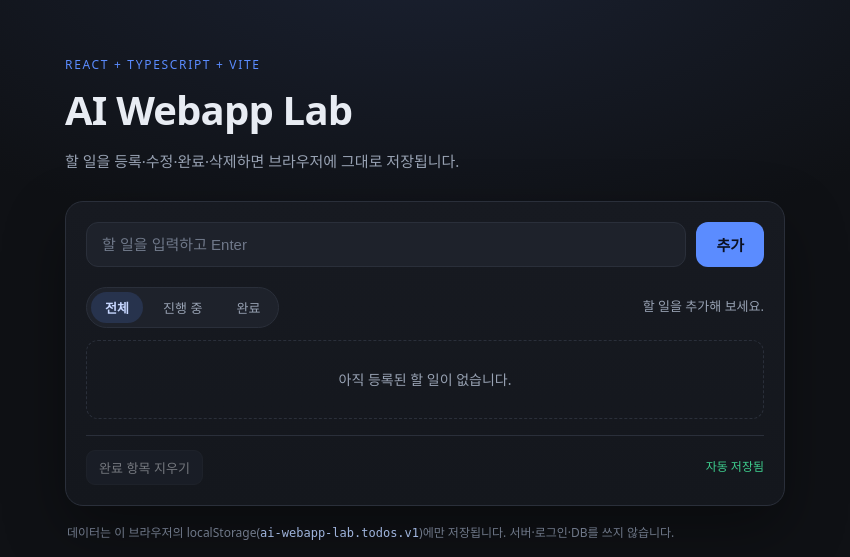
Test: AI Webapp Lab — 할 일 관리 › 할 일을 등록하면 목록과 localStorage에 저장된다
The width and height of the screenshot is (850, 557).
Check: the text with test id "todo-empty" reads "아직 등록된 할 일이 없습니다.", box [339,370,512,388]
Type "우유 사기" into the field with test id "todo-input" at (386, 244), box [86,222,686,266]
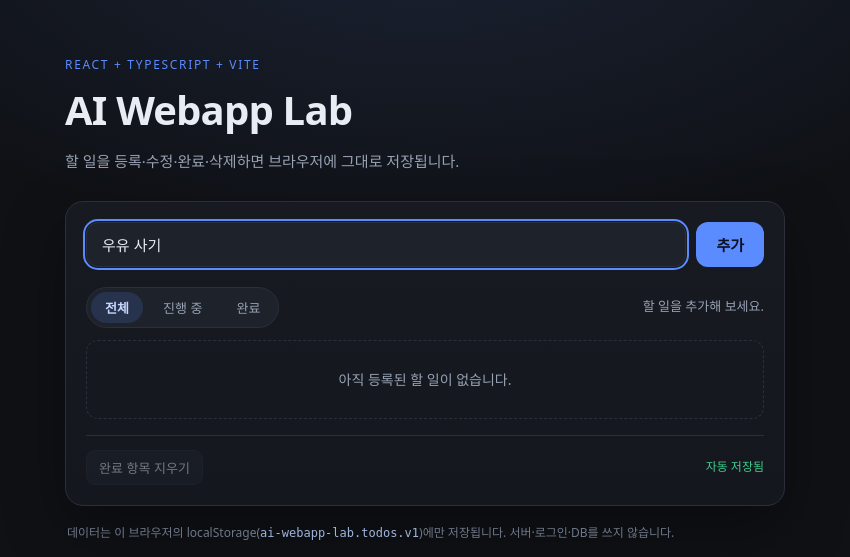
Click the button with test id "todo-add" at (730, 244), box [696,222,764,266]
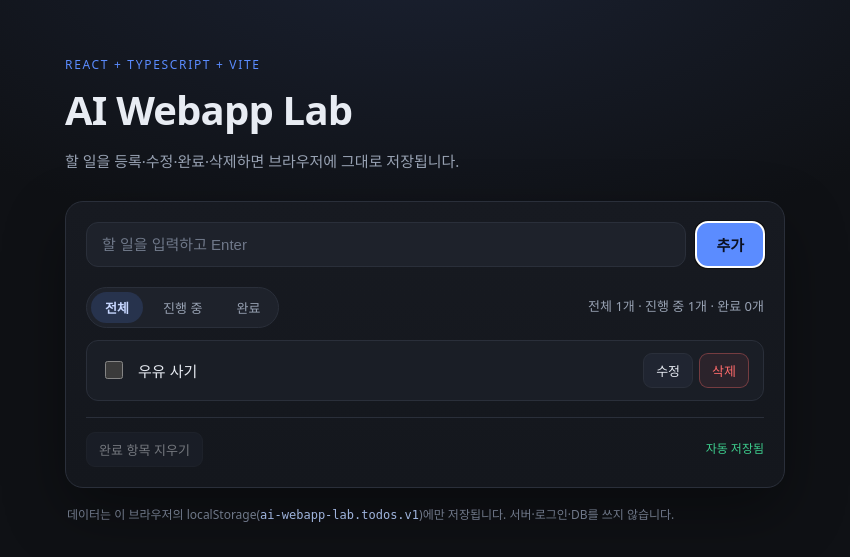
Check: the button "우유 사기" is shown, box [138,360,631,380]
Check: the field with test id "todo-input" is empty, box [86,222,686,266]
Check: the text with test id "todo-status" reads "전체 1개 · 진행 중 1개 · 완료 0개", box [588,297,764,315]
